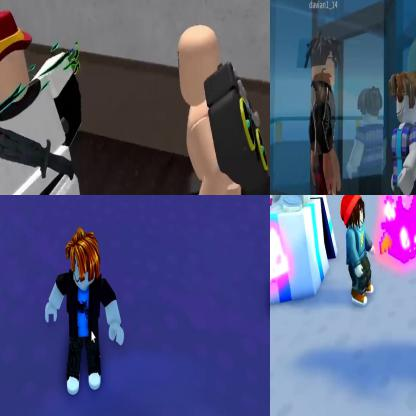Roblox-Avatar: (168, 25, 270, 195), (1, 10, 84, 195), (46, 227, 125, 396), (305, 30, 353, 195), (381, 71, 416, 195), (341, 196, 377, 307)
